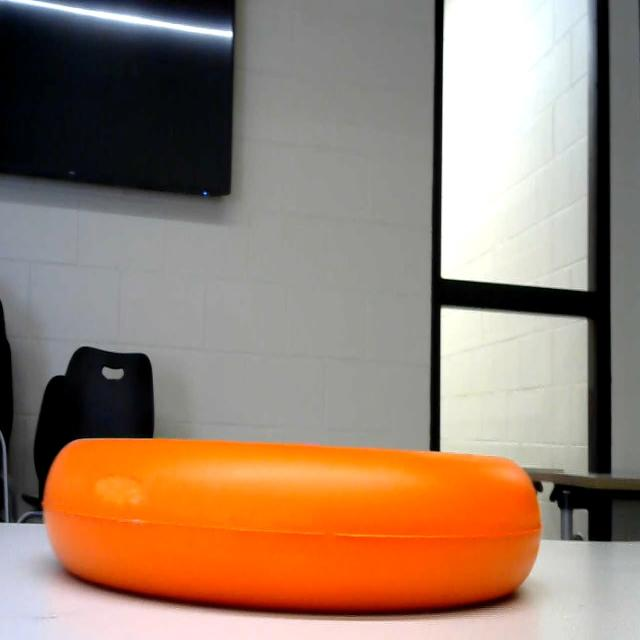note: (33, 428, 554, 606)
